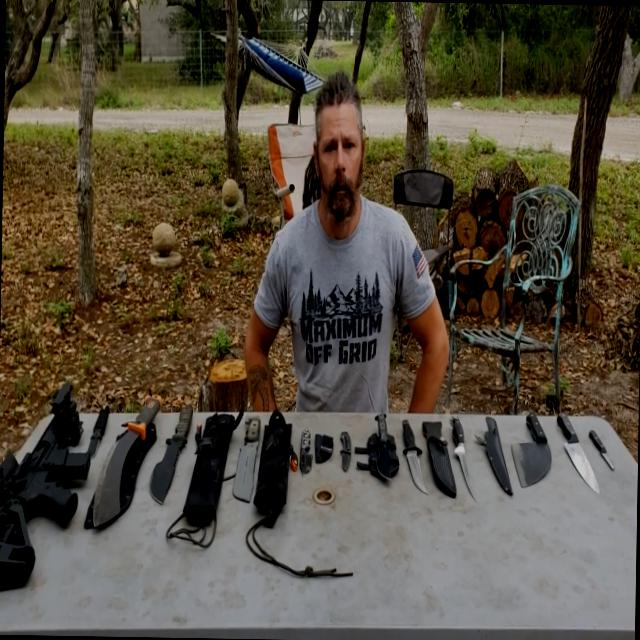knife: (92, 394, 175, 545), (349, 392, 411, 508), (142, 396, 199, 507), (438, 404, 501, 502), (226, 390, 276, 510), (506, 392, 554, 493), (281, 399, 329, 498), (321, 405, 368, 493), (558, 404, 605, 485), (592, 406, 638, 488), (398, 416, 431, 496), (84, 402, 111, 472)
long weapon: (0, 381, 111, 630)
